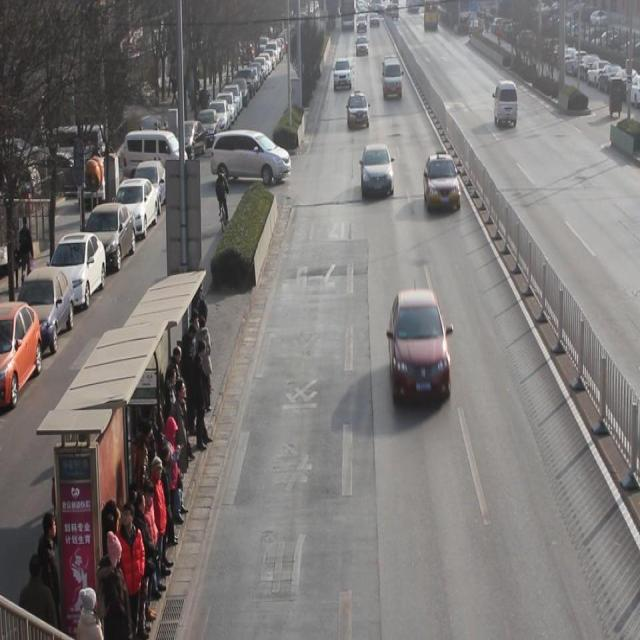car: (388, 290, 452, 406), (424, 154, 461, 212), (361, 142, 395, 199), (347, 92, 370, 130), (334, 58, 354, 93), (385, 56, 401, 86)
truck: (495, 80, 519, 130), (382, 57, 404, 99)
